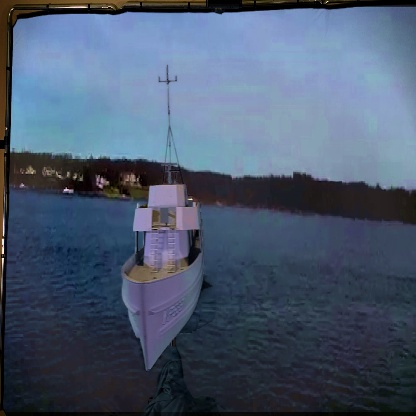YP689: (119, 63, 208, 370)
